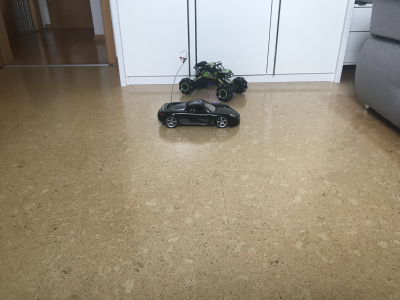remote control car: (178, 56, 250, 101)
